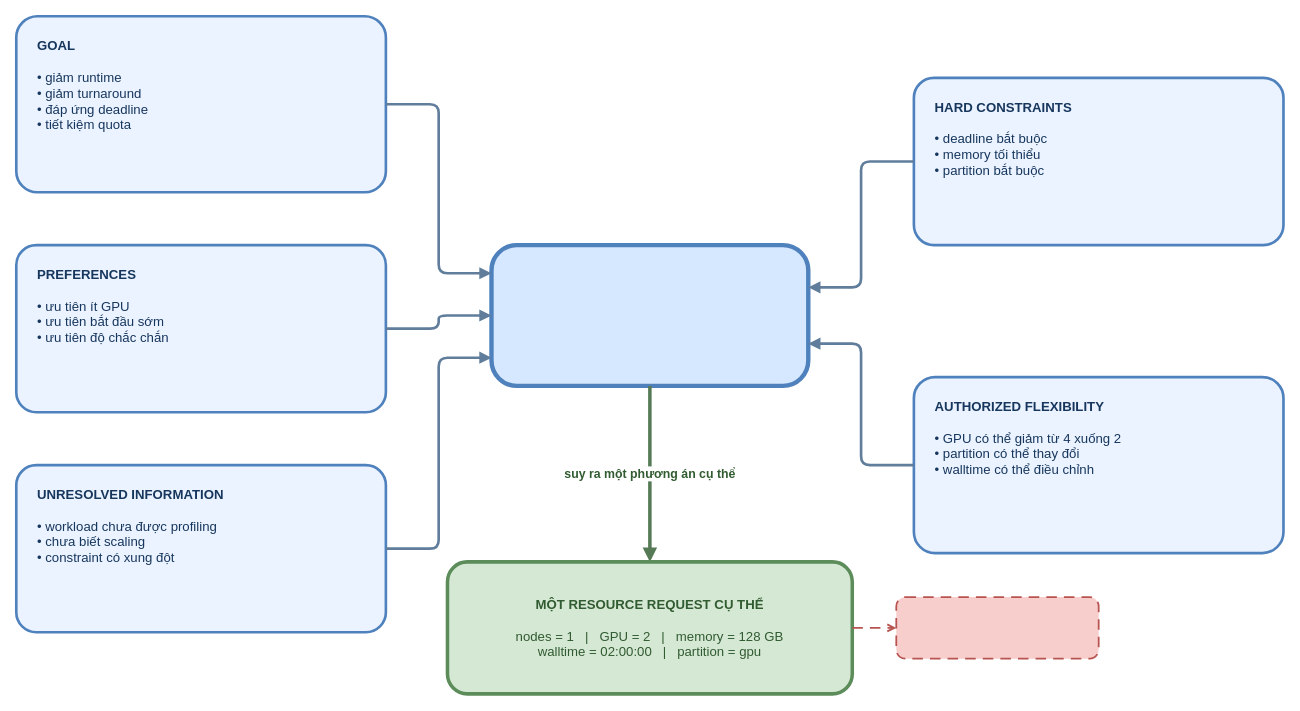
Image size: 1300x711. Some labels were removed from this diagram. The shapes that lost their labels are listed below. From the top down, each one's centre as x and y in pixels, then its label:
At (649,315): "User intent for HPC resource selection".
At (997,627): "≠ toàn bộ intent".
